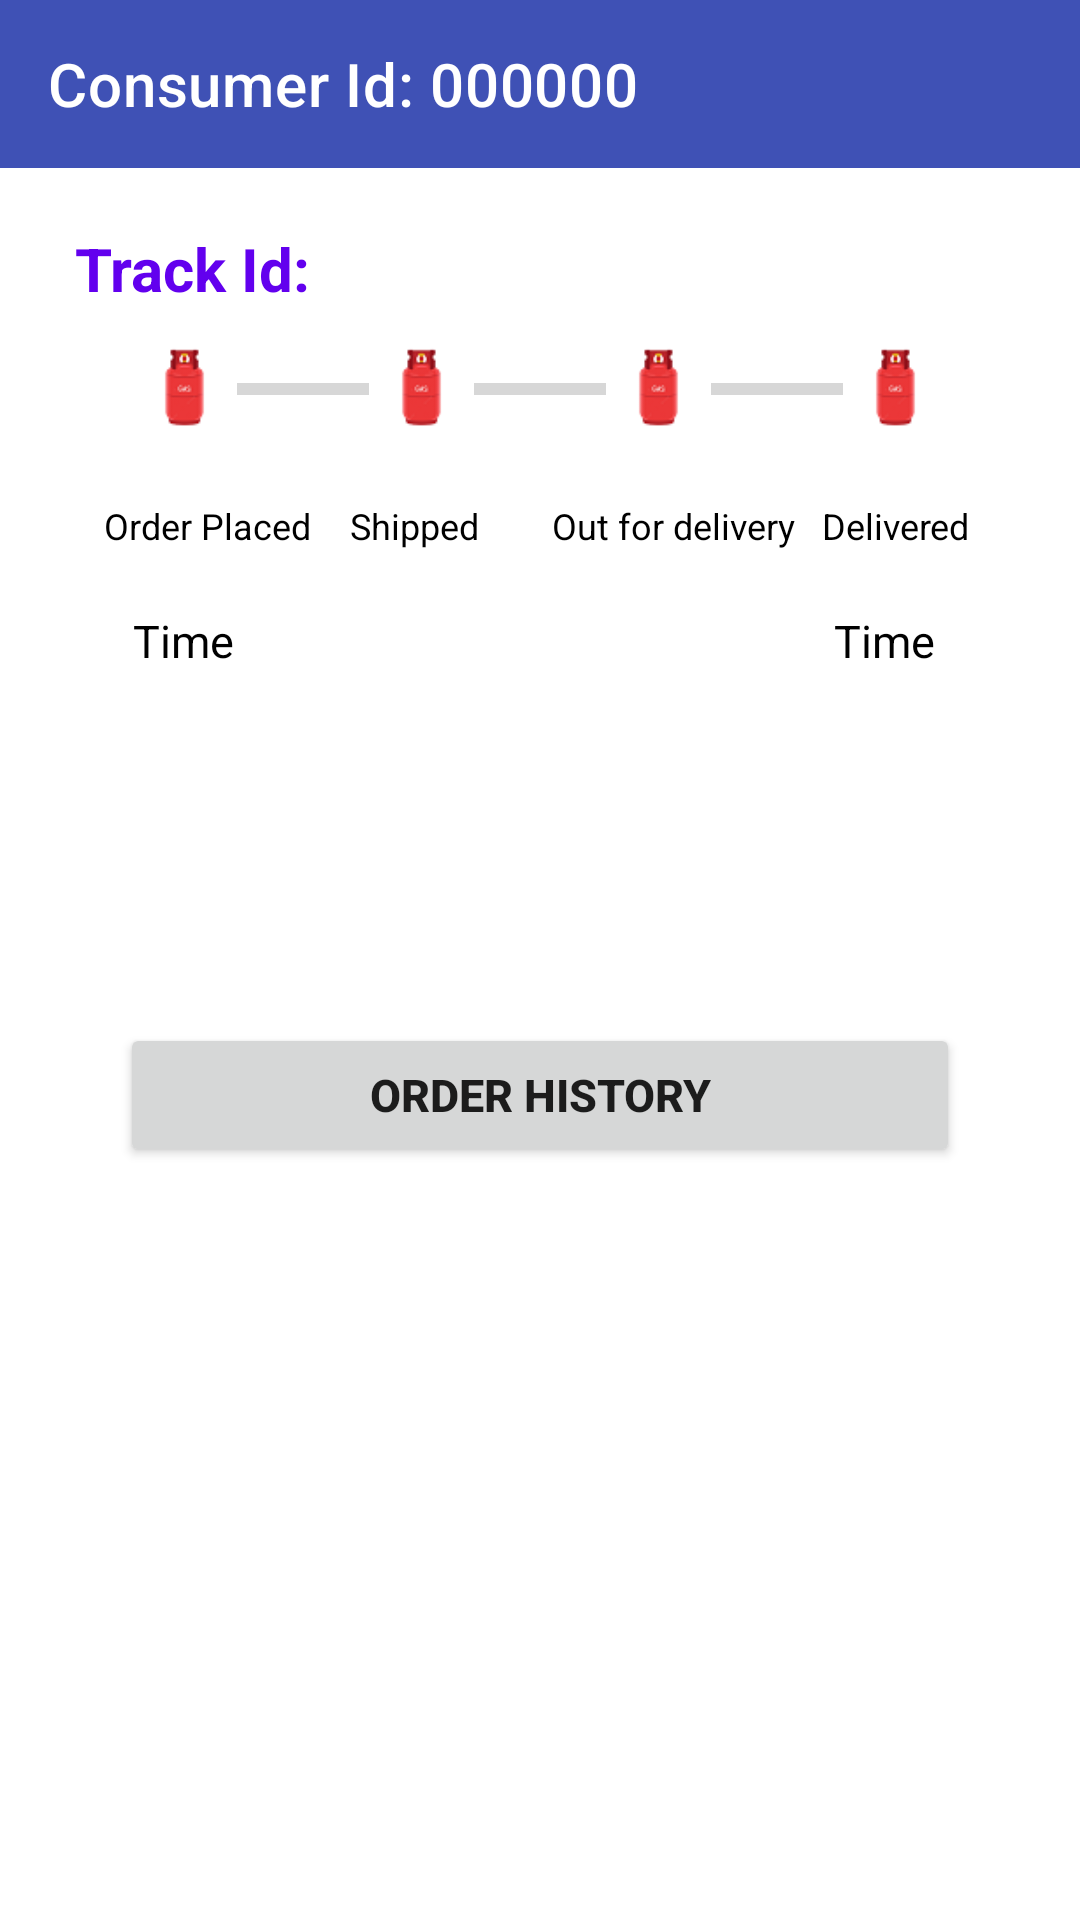

Screen size 1080px x 1920px. Icon name, then its center in pixels as [x,y]:
gas quota: [184,387], [421,387], [658,387], [895,387]
